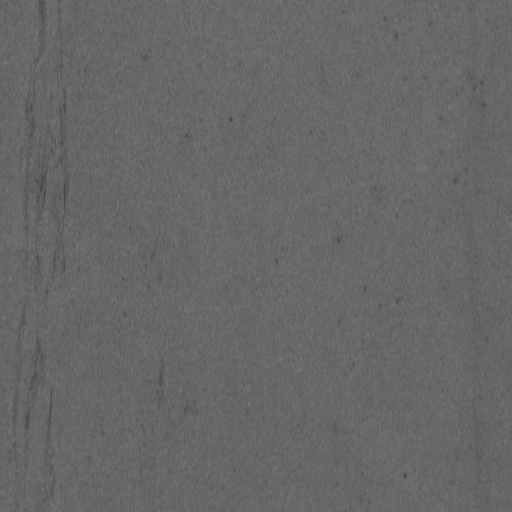zongxianghuashang: (30, 1, 61, 483)
